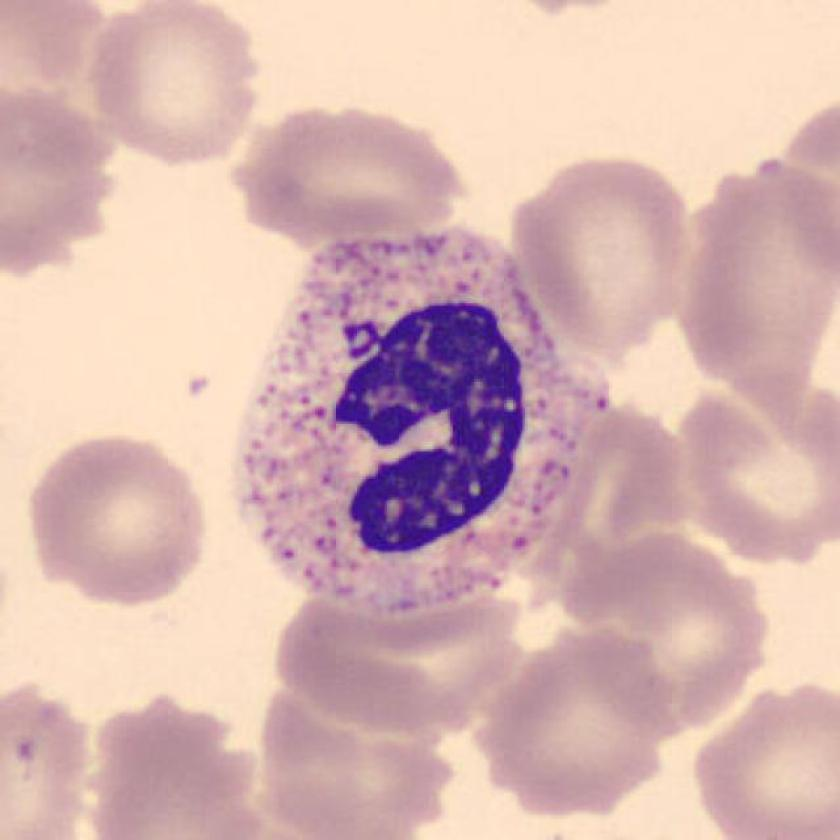neutrophil: (234, 230, 600, 608)
